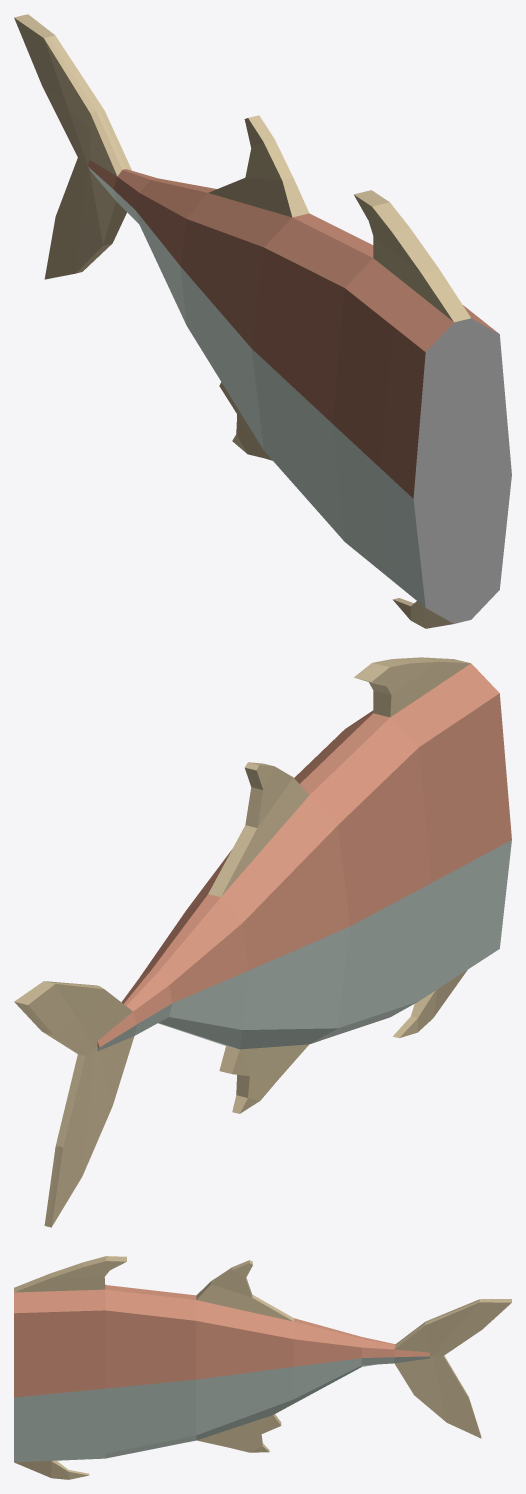
The picture shows the model from 3 angles, top to bottom: view 1: azimuth 30°, elevation 25°; view 2: azimuth 150°, elevation 25°; view 3: azimuth 270°, elevation 25°; orthographic projection. The views are drawn at different scales.
Parts seen in each view (by area): view 1: Fish; view 2: Fish; view 3: Fish.
Boxes of the visible parts, x1,y1,x2,y2 form: Fish: (14, 14, 511, 628); Fish: (14, 657, 511, 1227); Fish: (14, 1256, 511, 1479).
Size of the model in its own units: 28.1 by 107 by 218.
